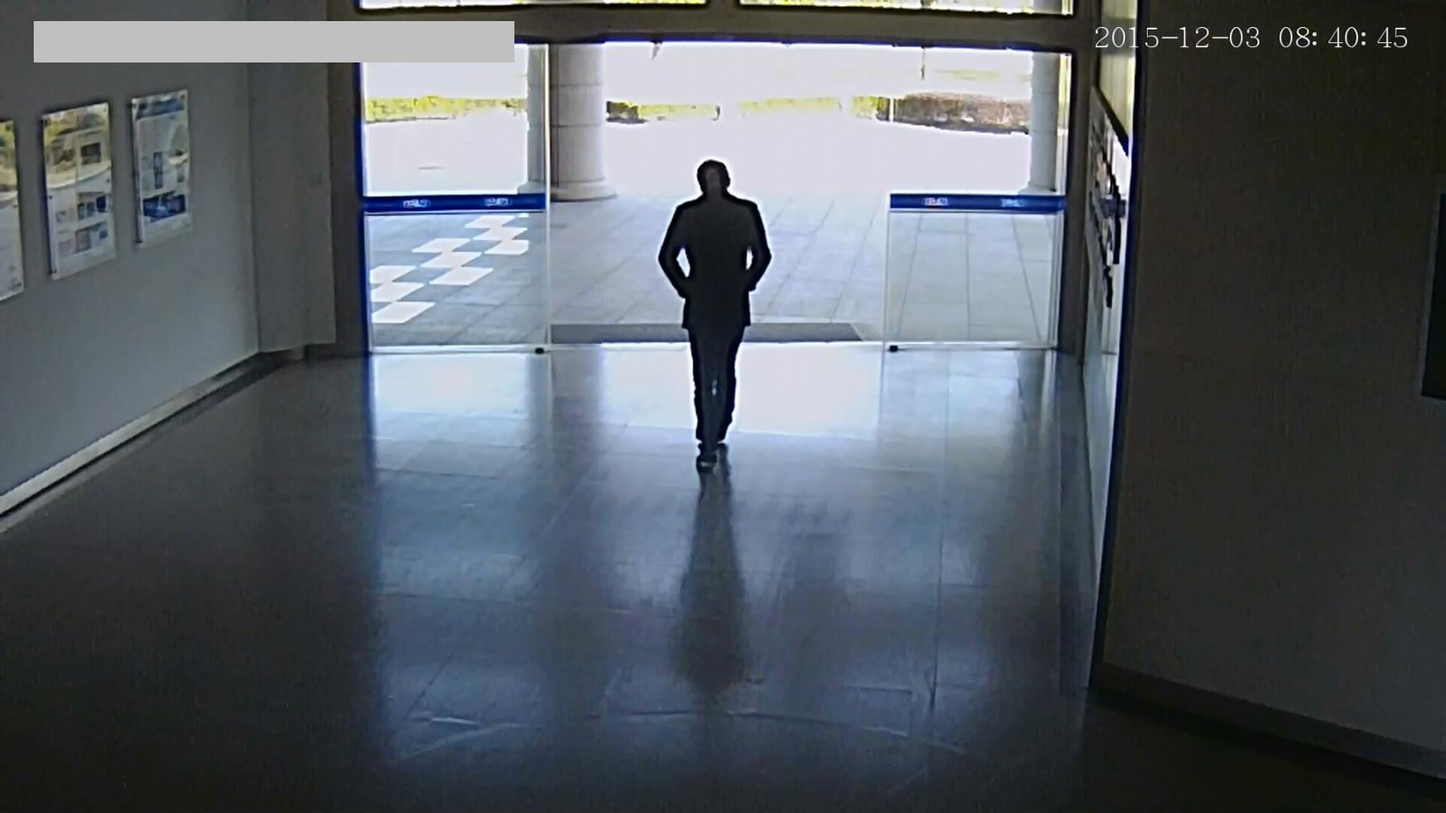person: (640, 146, 786, 475)
